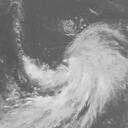cyclone: (53, 37, 125, 110)
